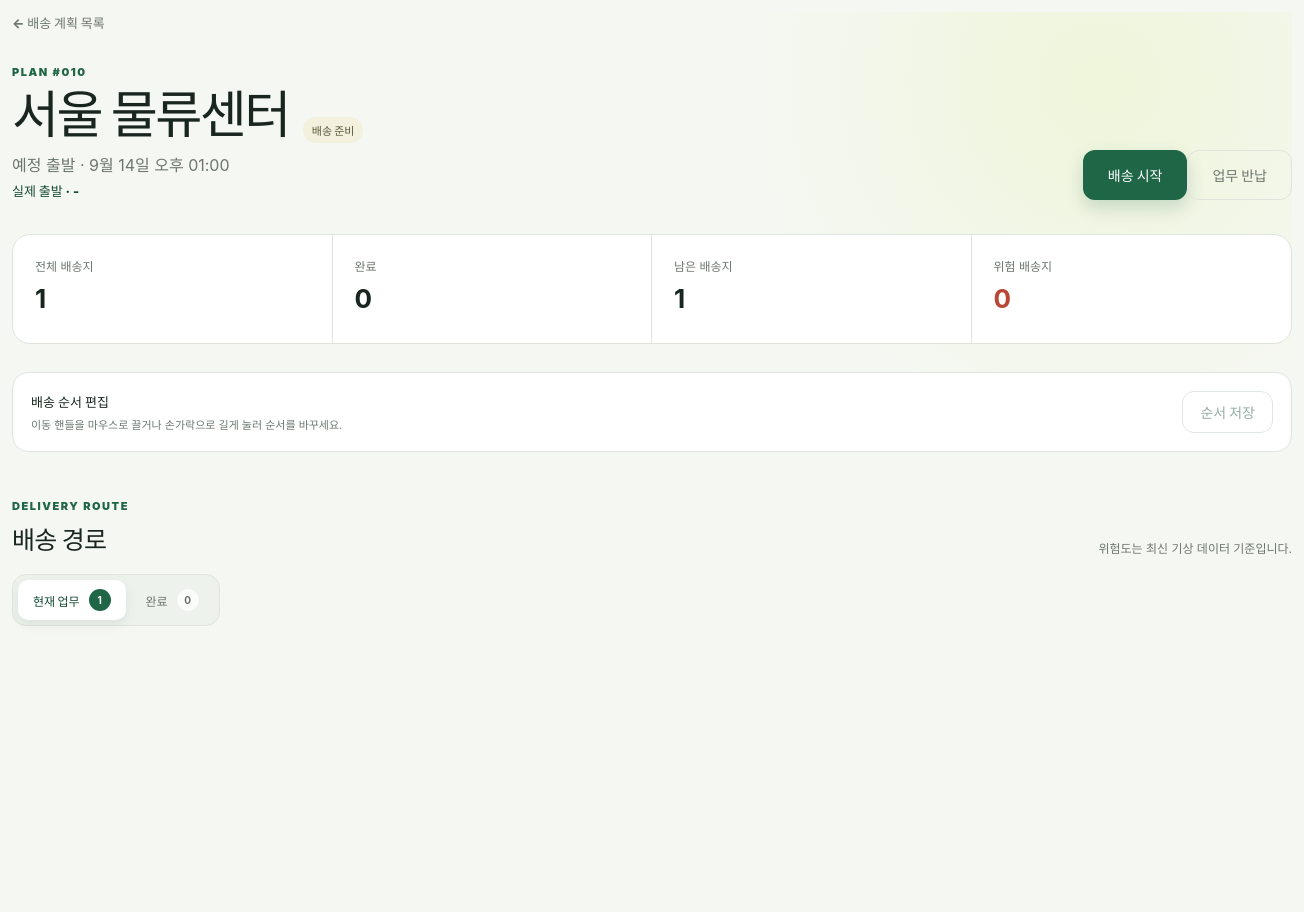
Test: PlanDetailPage 업무 반납 › 반납에 실패하면 화면에 남아 오류를 보여준다
Check: the heading "서울 물류센터" is shown, box [12,87,289,142]
Click the button "업무 반납" at {"x": 1240, "y": 175}, box [1187,150,1292,200]
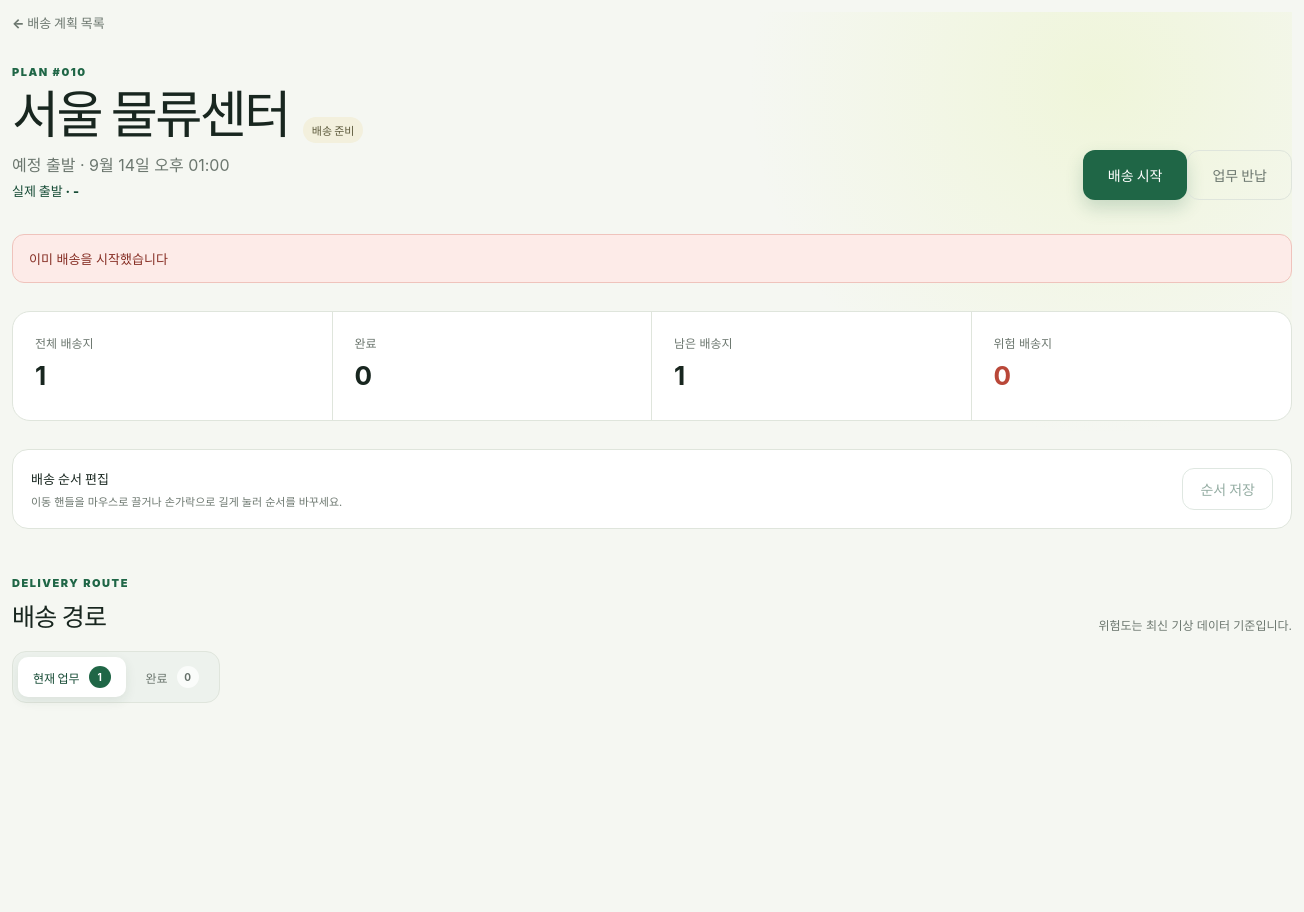
Check: the text "이미 배송을 시작했습니다" is shown, box [12,234,1292,283]
